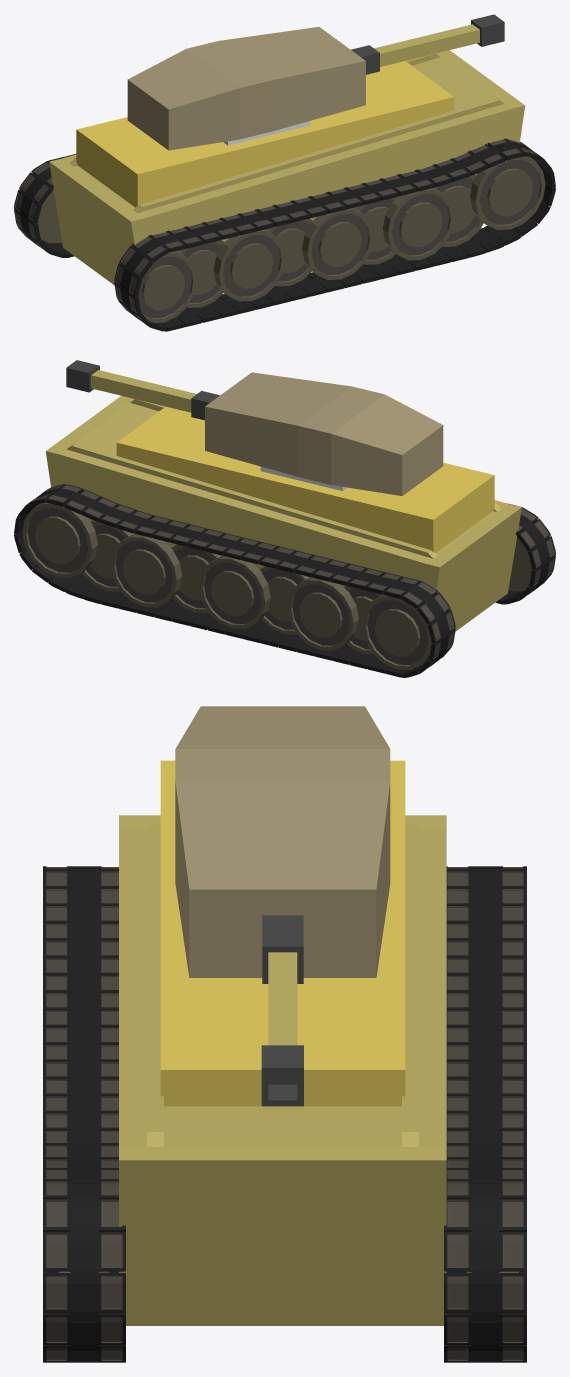
The model's file is TankTigress.fbx.
3 views of the same model, one above another, from view 1: azimuth 30°, elevation 25°; view 2: azimuth 150°, elevation 25°; view 3: azimuth 270°, elevation 25° (orthographic). The views are drawn at different scales.
Parts seen in each view (by area): view 1: Cube.015, Cube.021, Cube.016, Cube.020, Cylinder.032, Cylinder.037, Cylinder.040, Cylinder.038, Cube.019, Cylinder.039, Cube.017, Cylinder.033 (+4 smaller); view 2: Cube.015, Cube.021, Cube.017, Cube.020, Cylinder.026, Cylinder.027, Cylinder.024, Cylinder.025, Cylinder.023, Cube.019, Cube.016, Cylinder.031 (+4 smaller); view 3: Cube.015, Cube.021, Cube.017, Cube.016, Cube.020, Cube.019.
Part boxes in pixels (x1,y1,x2,y2): Cube.015: (49, 50, 525, 284); Cube.021: (127, 27, 365, 150); Cube.016: (114, 138, 555, 331); Cube.020: (76, 61, 454, 207); Cylinder.032: (470, 156, 545, 229); Cylinder.037: (382, 188, 454, 260); Cylinder.040: (213, 229, 285, 301); Cylinder.038: (302, 208, 373, 279); Cube.019: (351, 14, 504, 74); Cylinder.039: (129, 251, 196, 322); Cube.017: (14, 154, 75, 257); Cylinder.033: (433, 174, 483, 246); Cube.015: (45, 396, 521, 631); Cube.021: (205, 372, 443, 495); Cube.017: (14, 484, 455, 677); Cube.020: (116, 406, 494, 552); Cylinder.026: (22, 502, 97, 577); Cylinder.027: (110, 534, 182, 607); Cylinder.024: (287, 577, 358, 650); Cylinder.025: (199, 555, 270, 628); Cylinder.023: (362, 595, 431, 670); Cube.019: (66, 360, 219, 420); Cube.016: (495, 503, 555, 604); Cylinder.031: (171, 544, 222, 613); Cube.015: (119, 815, 446, 1325); Cube.021: (175, 706, 390, 977); Cube.017: (444, 866, 526, 1362); Cube.016: (43, 866, 125, 1362); Cube.020: (160, 760, 405, 1106); Cube.019: (261, 915, 303, 1106).
Bounding box in the file's own units: 394 × 172 × 194.
